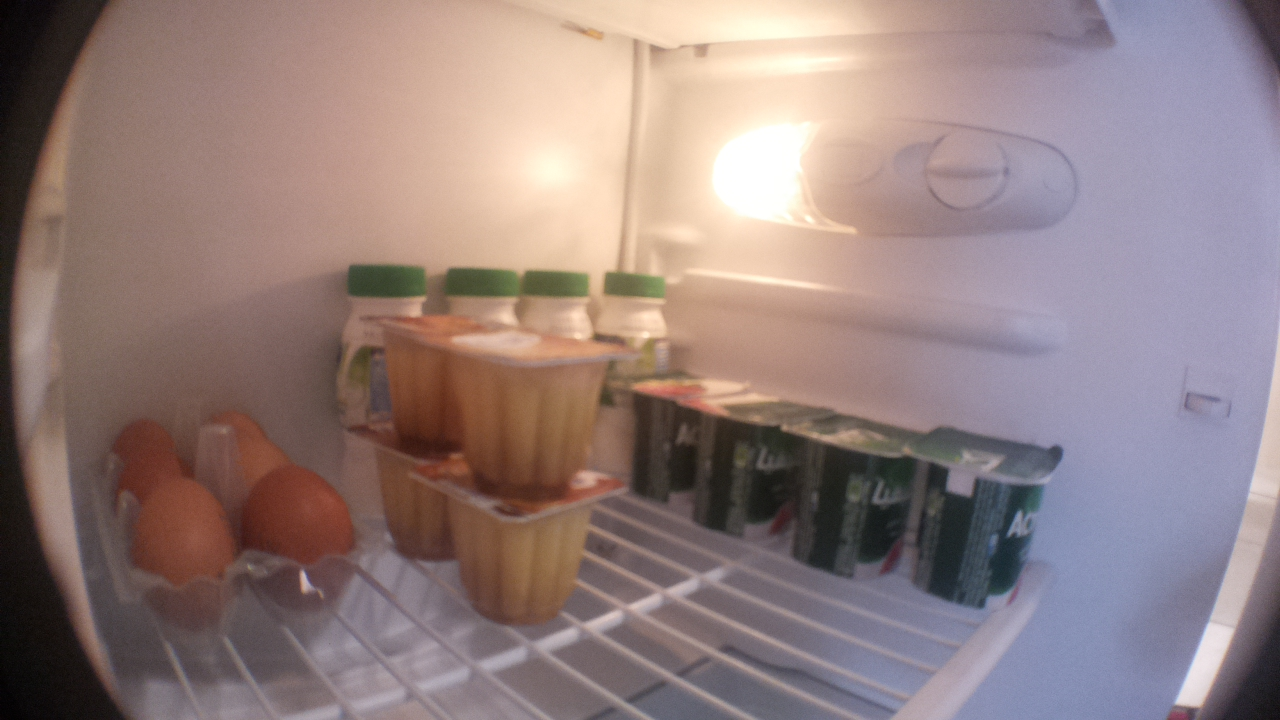caramel: (433, 464, 626, 628), (450, 329, 613, 497), (362, 308, 468, 452), (371, 419, 458, 566)
egg: (240, 464, 367, 629), (117, 474, 241, 640), (108, 454, 194, 513), (218, 440, 290, 506), (102, 413, 180, 463), (198, 411, 280, 455)
laban: (328, 255, 398, 524), (593, 265, 679, 377), (522, 266, 597, 340), (439, 264, 520, 324)
yoghurt: (899, 419, 1066, 617), (794, 407, 917, 584), (690, 382, 805, 547), (632, 369, 703, 506)
